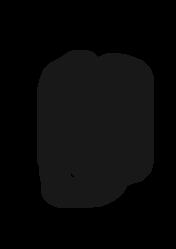fp: (27, 43, 159, 216)
